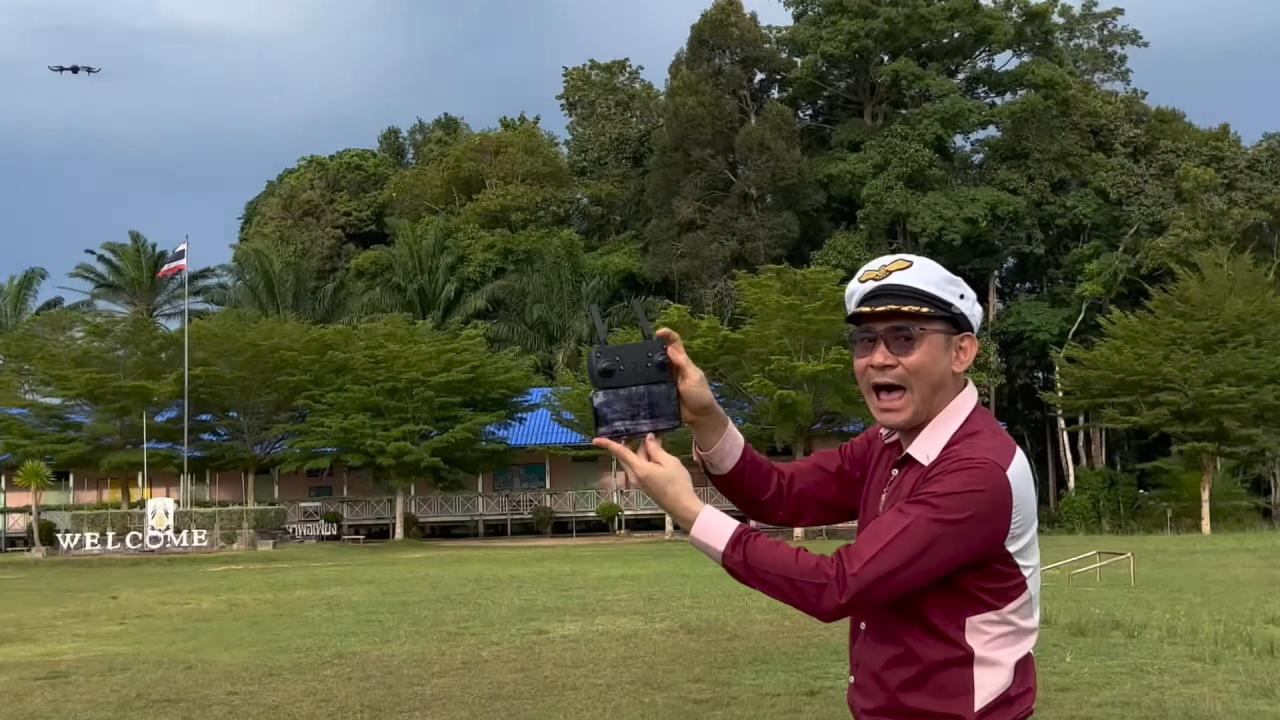Drone: (36, 50, 111, 87)
